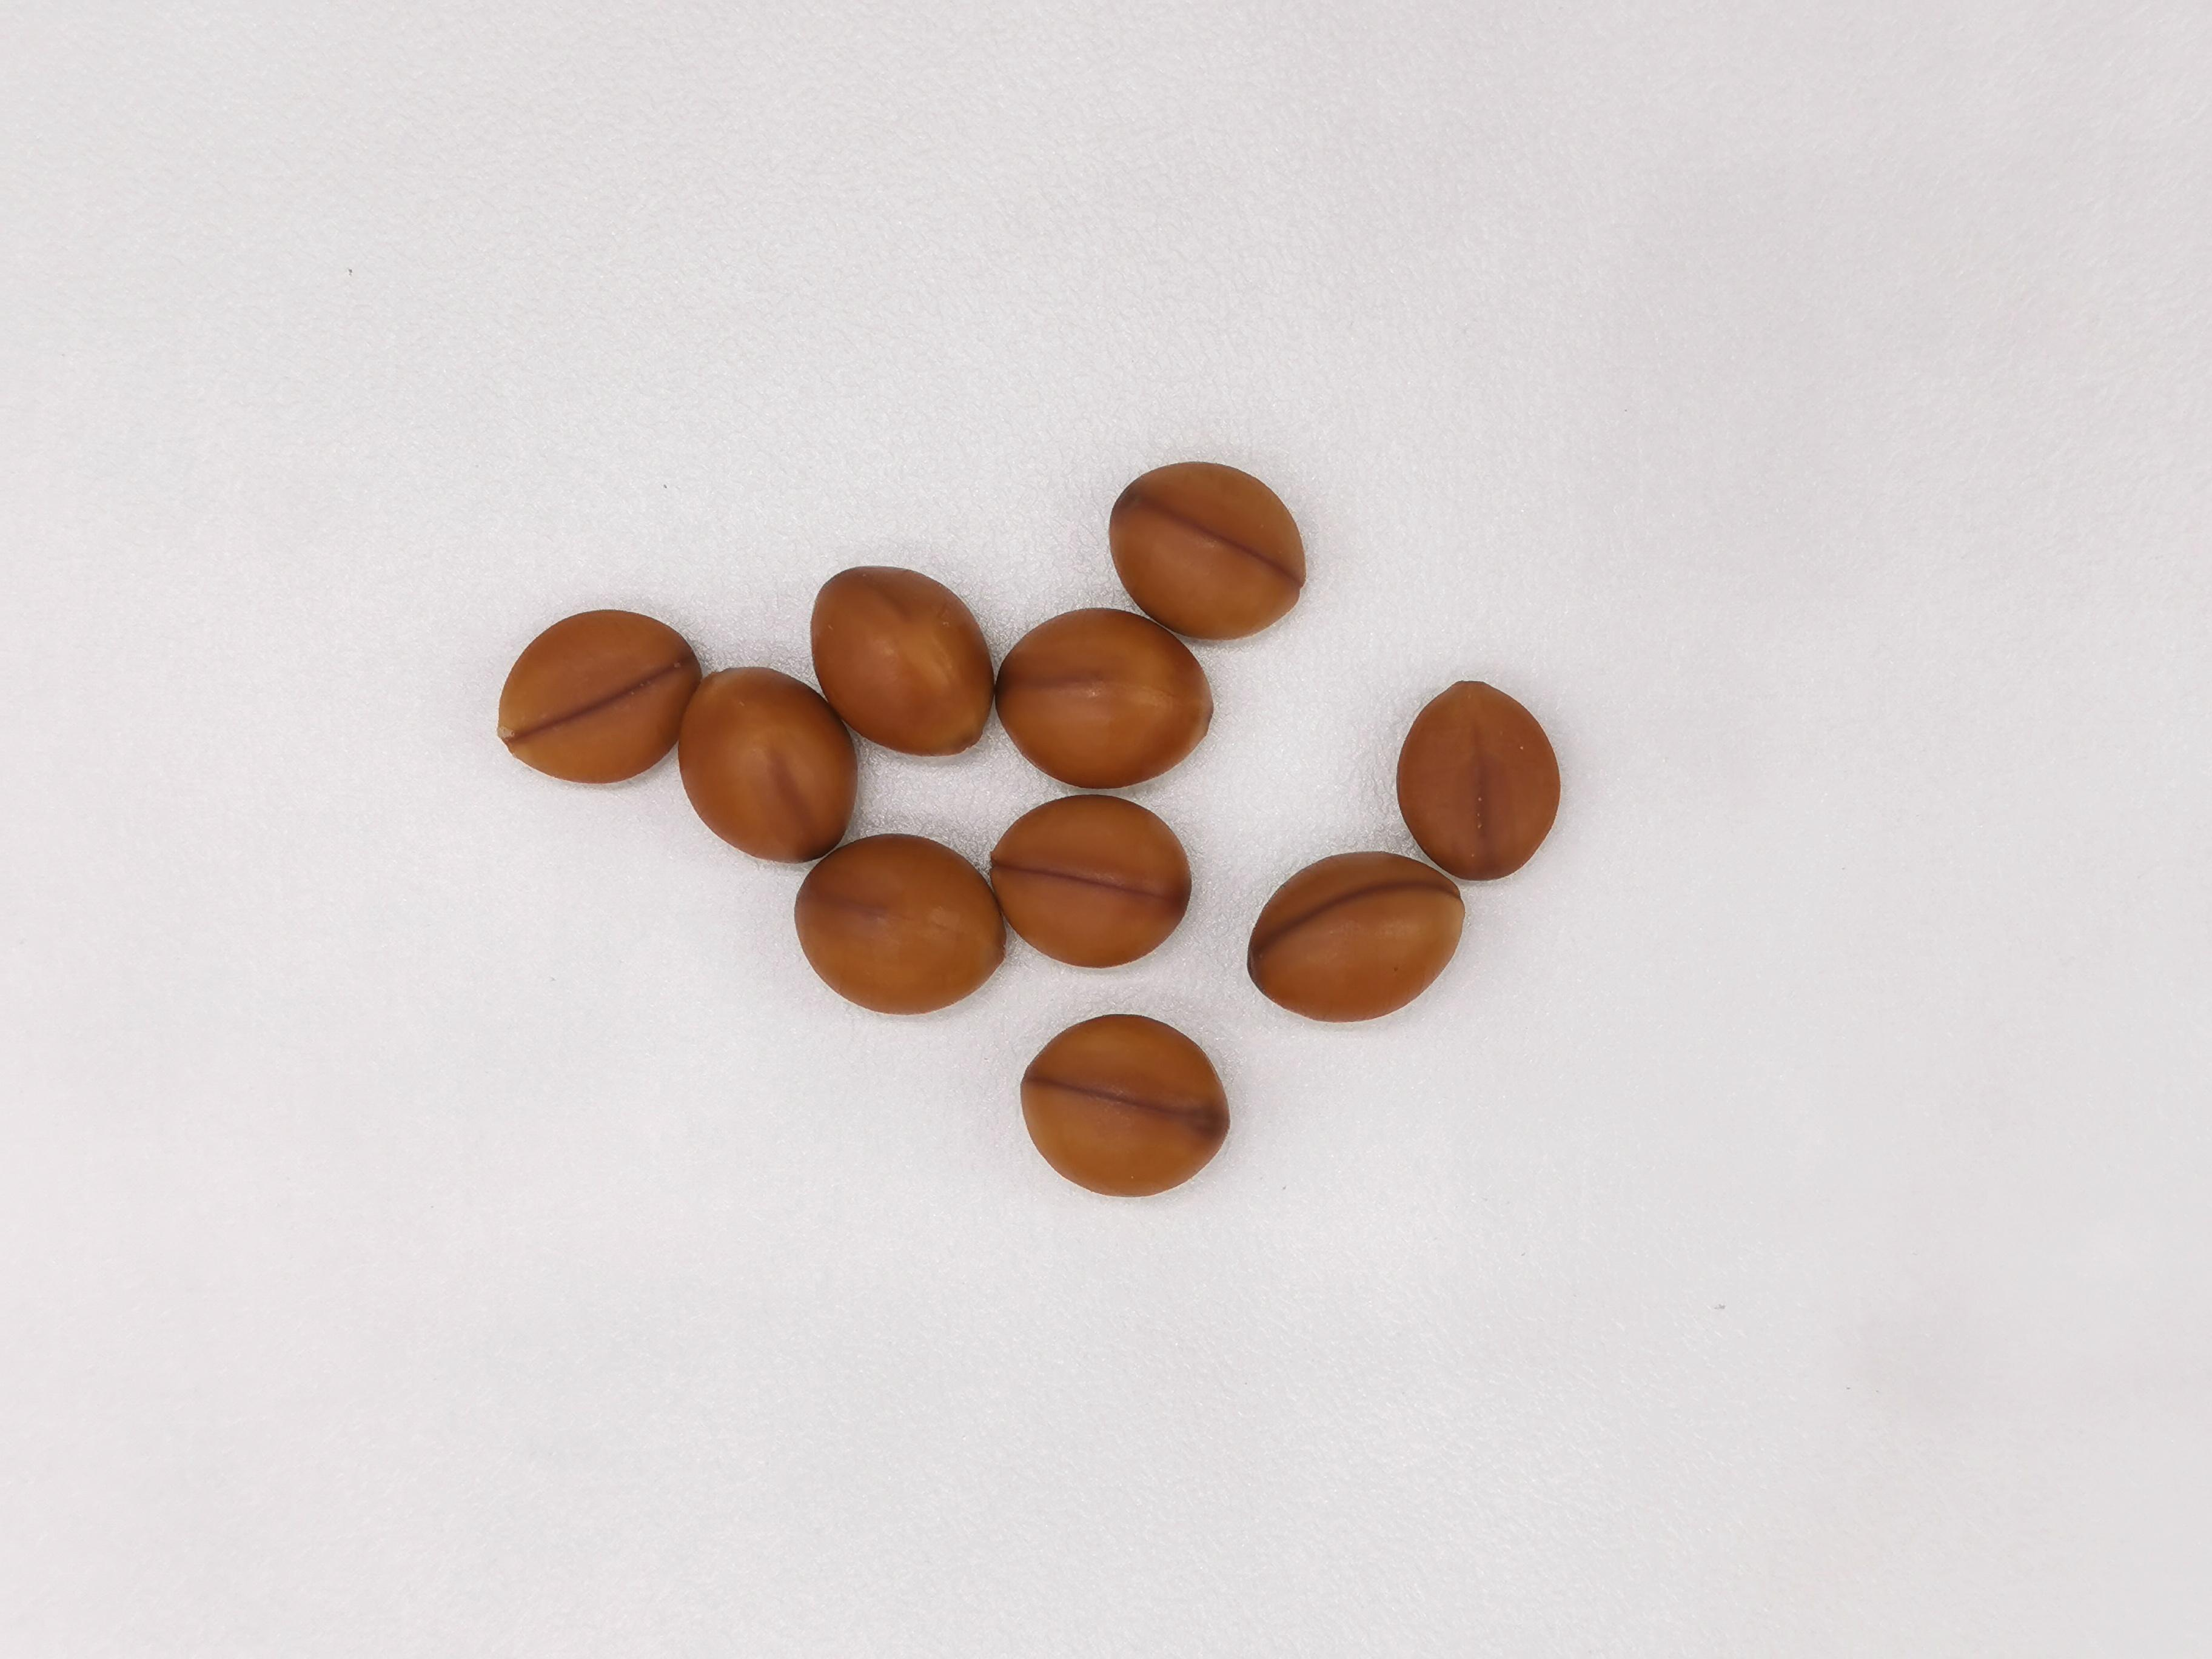seed: (996, 605, 1219, 791), (1015, 1009, 1230, 1197), (1242, 847, 1465, 1025), (794, 833, 1007, 1016), (1106, 458, 1308, 645), (986, 791, 1188, 972), (495, 610, 700, 784), (679, 664, 859, 861), (810, 563, 993, 753), (1395, 676, 1559, 878)
